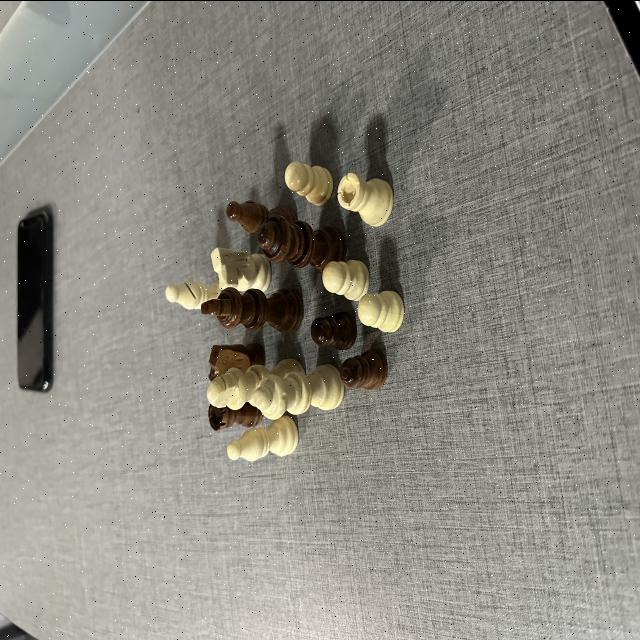Black-Bishop: (227, 198, 297, 230)
Black-King: (201, 288, 304, 332)
Black-Knight: (209, 344, 265, 382)
Black-Pawn: (340, 348, 388, 390), (311, 312, 356, 348)
Black-Queen: (257, 225, 346, 273)
Black-Rook: (206, 402, 264, 430)
White-Bishop: (226, 415, 298, 461), (165, 280, 218, 308)
White-King: (207, 356, 305, 409)
White-Knight: (210, 246, 272, 292)
White-Pawn: (284, 161, 333, 205), (356, 290, 404, 332), (322, 260, 370, 300)
White-Queen: (254, 364, 344, 418)
White-Rook: (337, 172, 393, 226)
